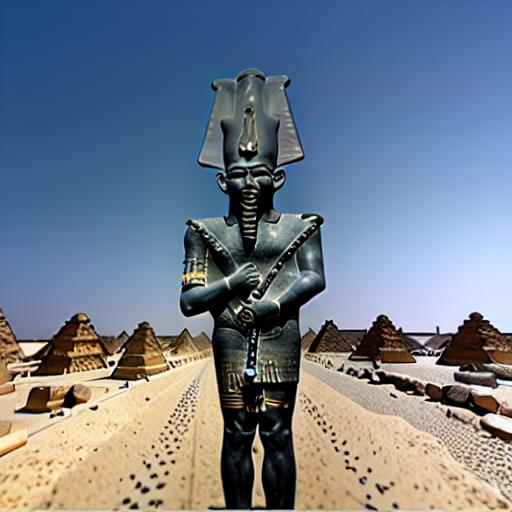Statue of Osiris: (181, 66, 326, 511)
